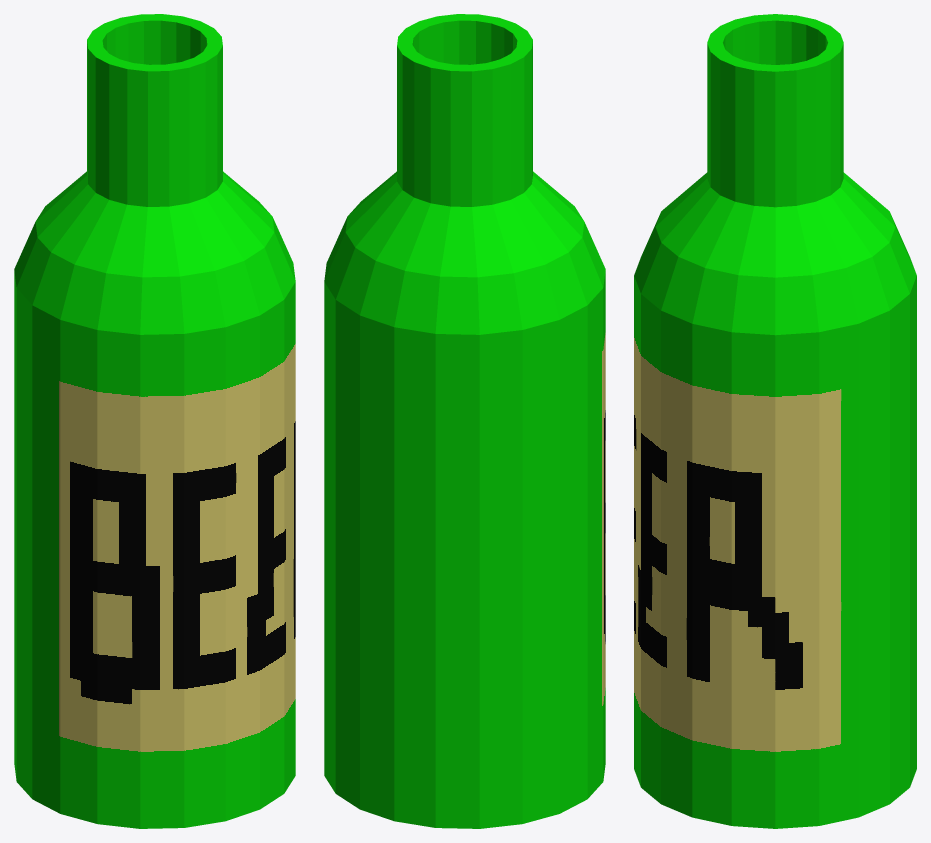
Rendered from test beer.fbx.
The picture shows the model from 3 angles, left to right: view 1: azimuth 30°, elevation 25°; view 2: azimuth 150°, elevation 25°; view 3: azimuth 270°, elevation 25°; orthographic projection.
Visible parts, largest first — view 1: Cylinder; view 2: Cylinder; view 3: Cylinder.
Part boxes in pixels (<box>): Cylinder: <box>14,14,295,828</box>; Cylinder: <box>324,14,605,828</box>; Cylinder: <box>634,14,916,828</box>.
Bounding box in the file's own units: 159 × 450 × 159.
1 material, 1 textured.
